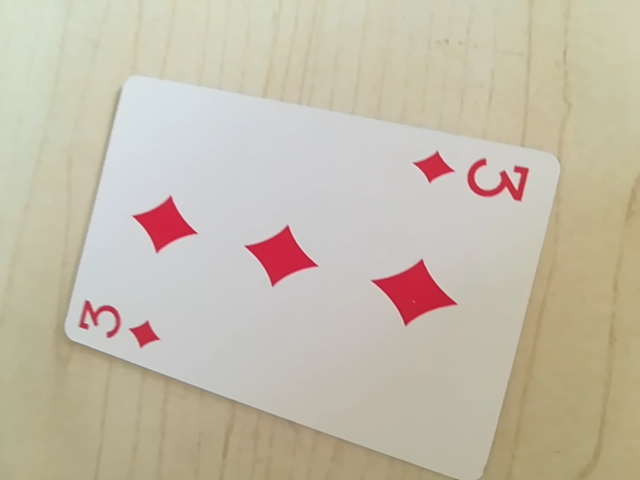fk 3: (409, 148, 535, 204), (73, 291, 168, 352)
